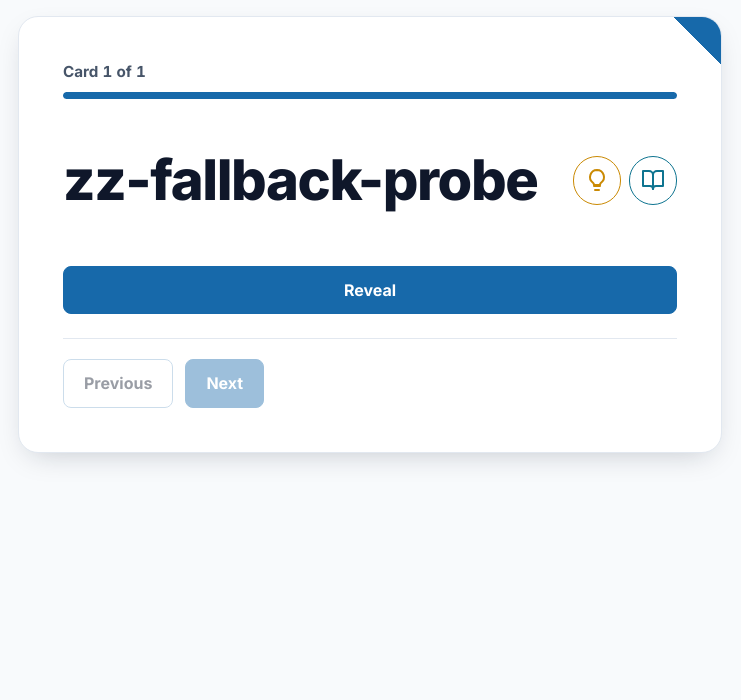
Test: Flashcard › keeps the SVG fallback for expressions without a curated photo
Click the button named "Show visual hint": (597, 180) left=573, top=156, right=621, bottom=205
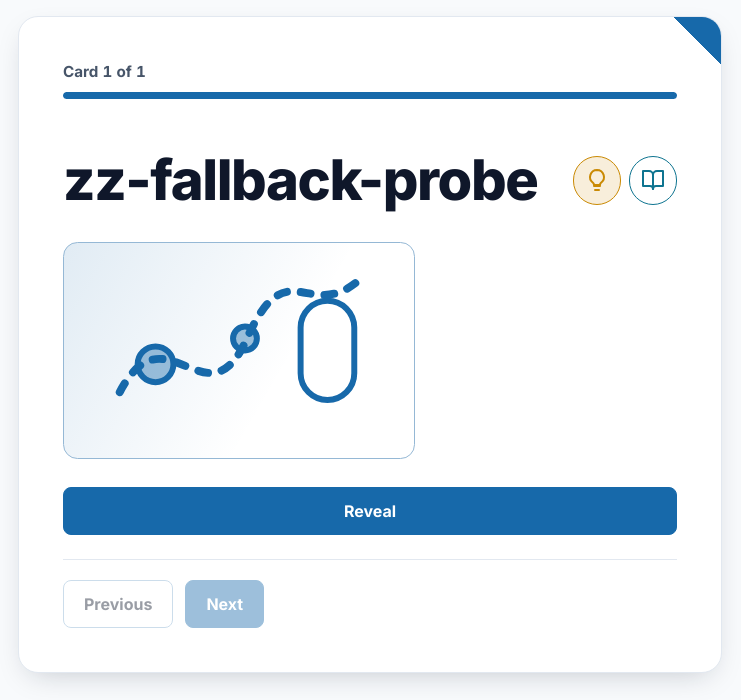
Now the picture named "Pista visual animada" is shown, box left=63, top=242, right=415, bottom=459
